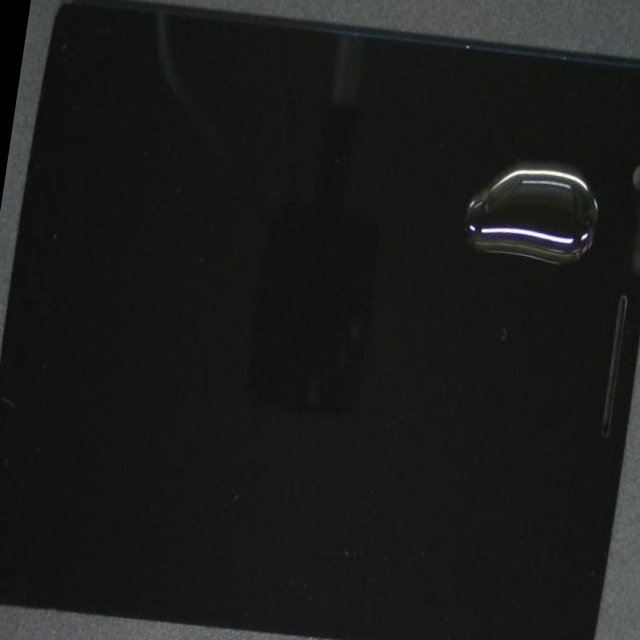oil: (295, 122, 640, 353)
